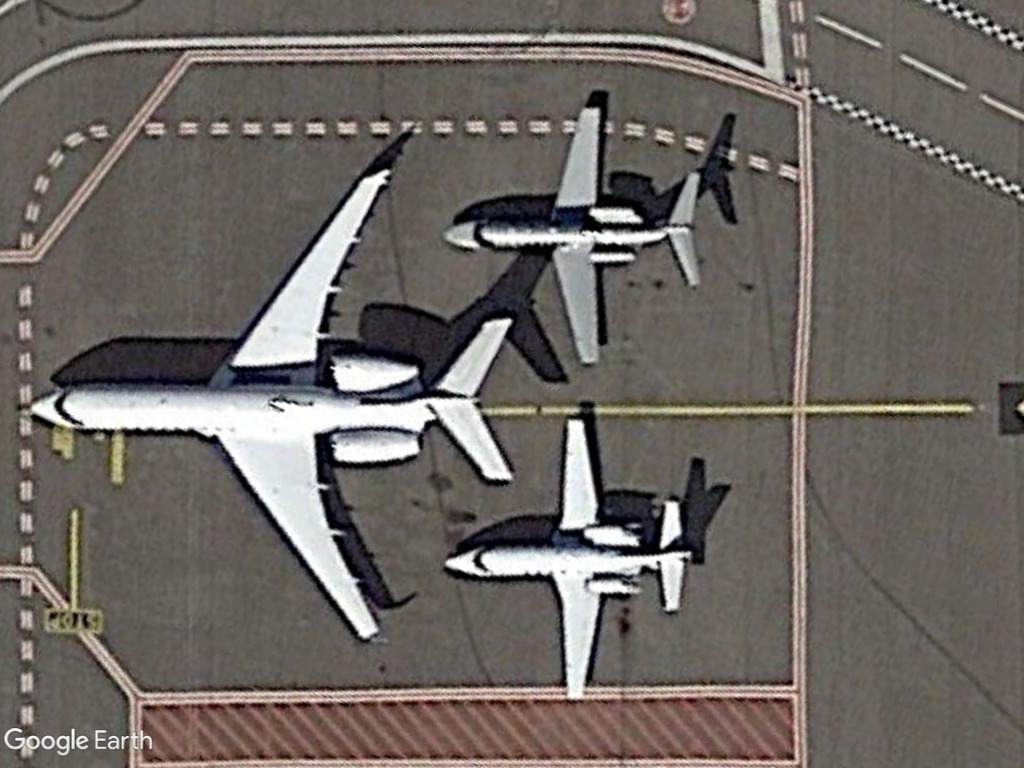chartered: (29, 153, 516, 648), (434, 404, 721, 703), (435, 102, 722, 371)
